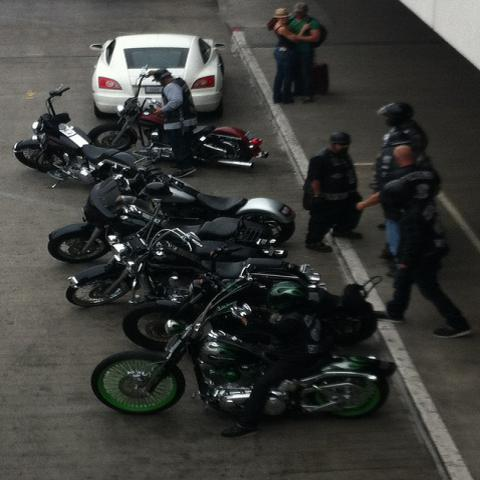car: (90, 33, 228, 120)
motorcycle: (92, 299, 396, 418), (66, 203, 328, 307), (125, 263, 385, 351), (46, 174, 280, 264), (86, 64, 271, 168), (9, 82, 148, 190), (127, 160, 297, 243)
